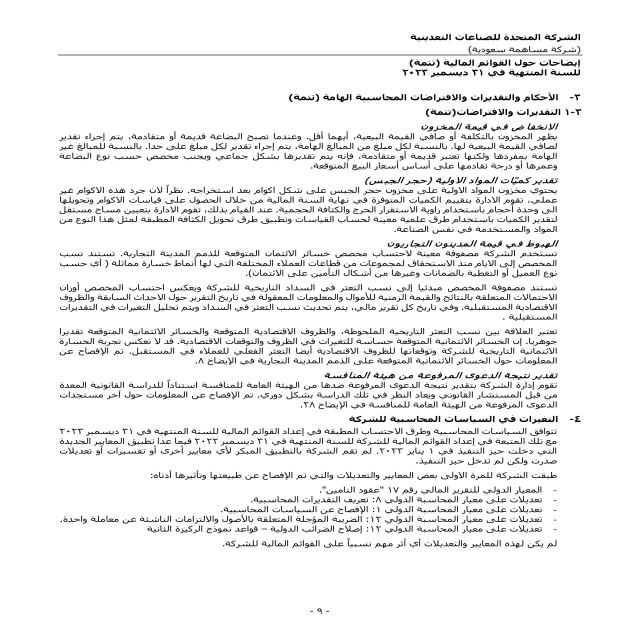notes: (391, 59, 585, 79)
text: (18, 86, 582, 566)
